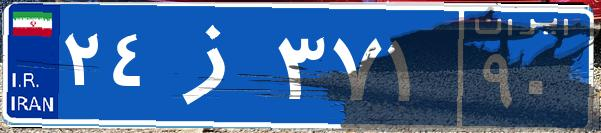0: (525, 38, 570, 115)
1: (385, 28, 445, 110)
2: (57, 26, 110, 107)
3: (273, 28, 330, 110)
4: (110, 28, 158, 105)
7: (330, 28, 385, 110)
9: (475, 38, 525, 113)
ز: (158, 15, 273, 115)
